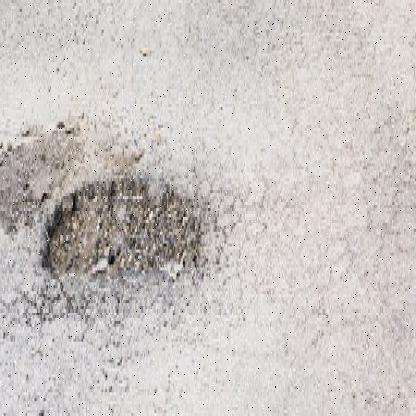pothole: (29, 140, 220, 342)
